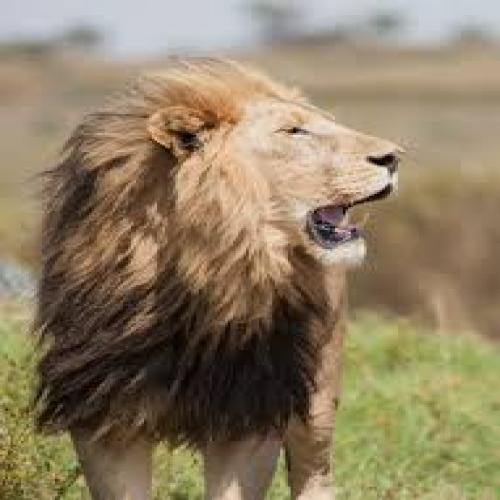lion-endangered: (36, 63, 402, 500)
